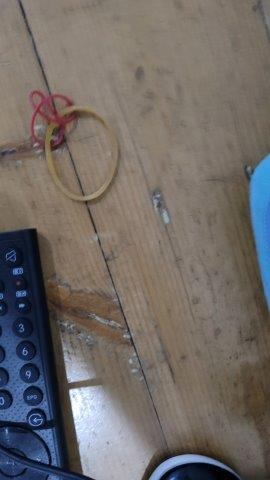karet: (29, 90, 120, 204)
